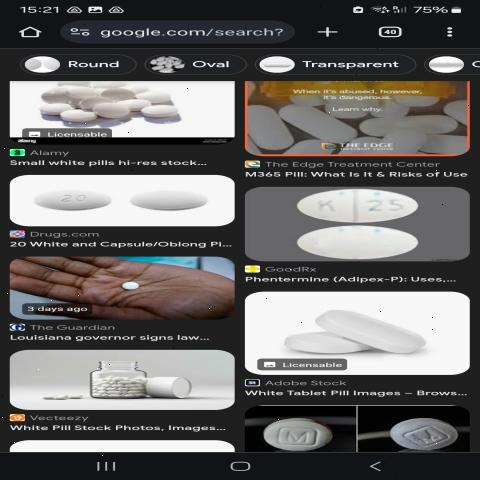Pill: (322, 306, 443, 357), (278, 186, 446, 218), (282, 223, 430, 252), (271, 106, 370, 145), (373, 414, 475, 449), (253, 418, 354, 452), (120, 184, 228, 215), (24, 182, 114, 212), (136, 102, 196, 123), (118, 276, 169, 297)
